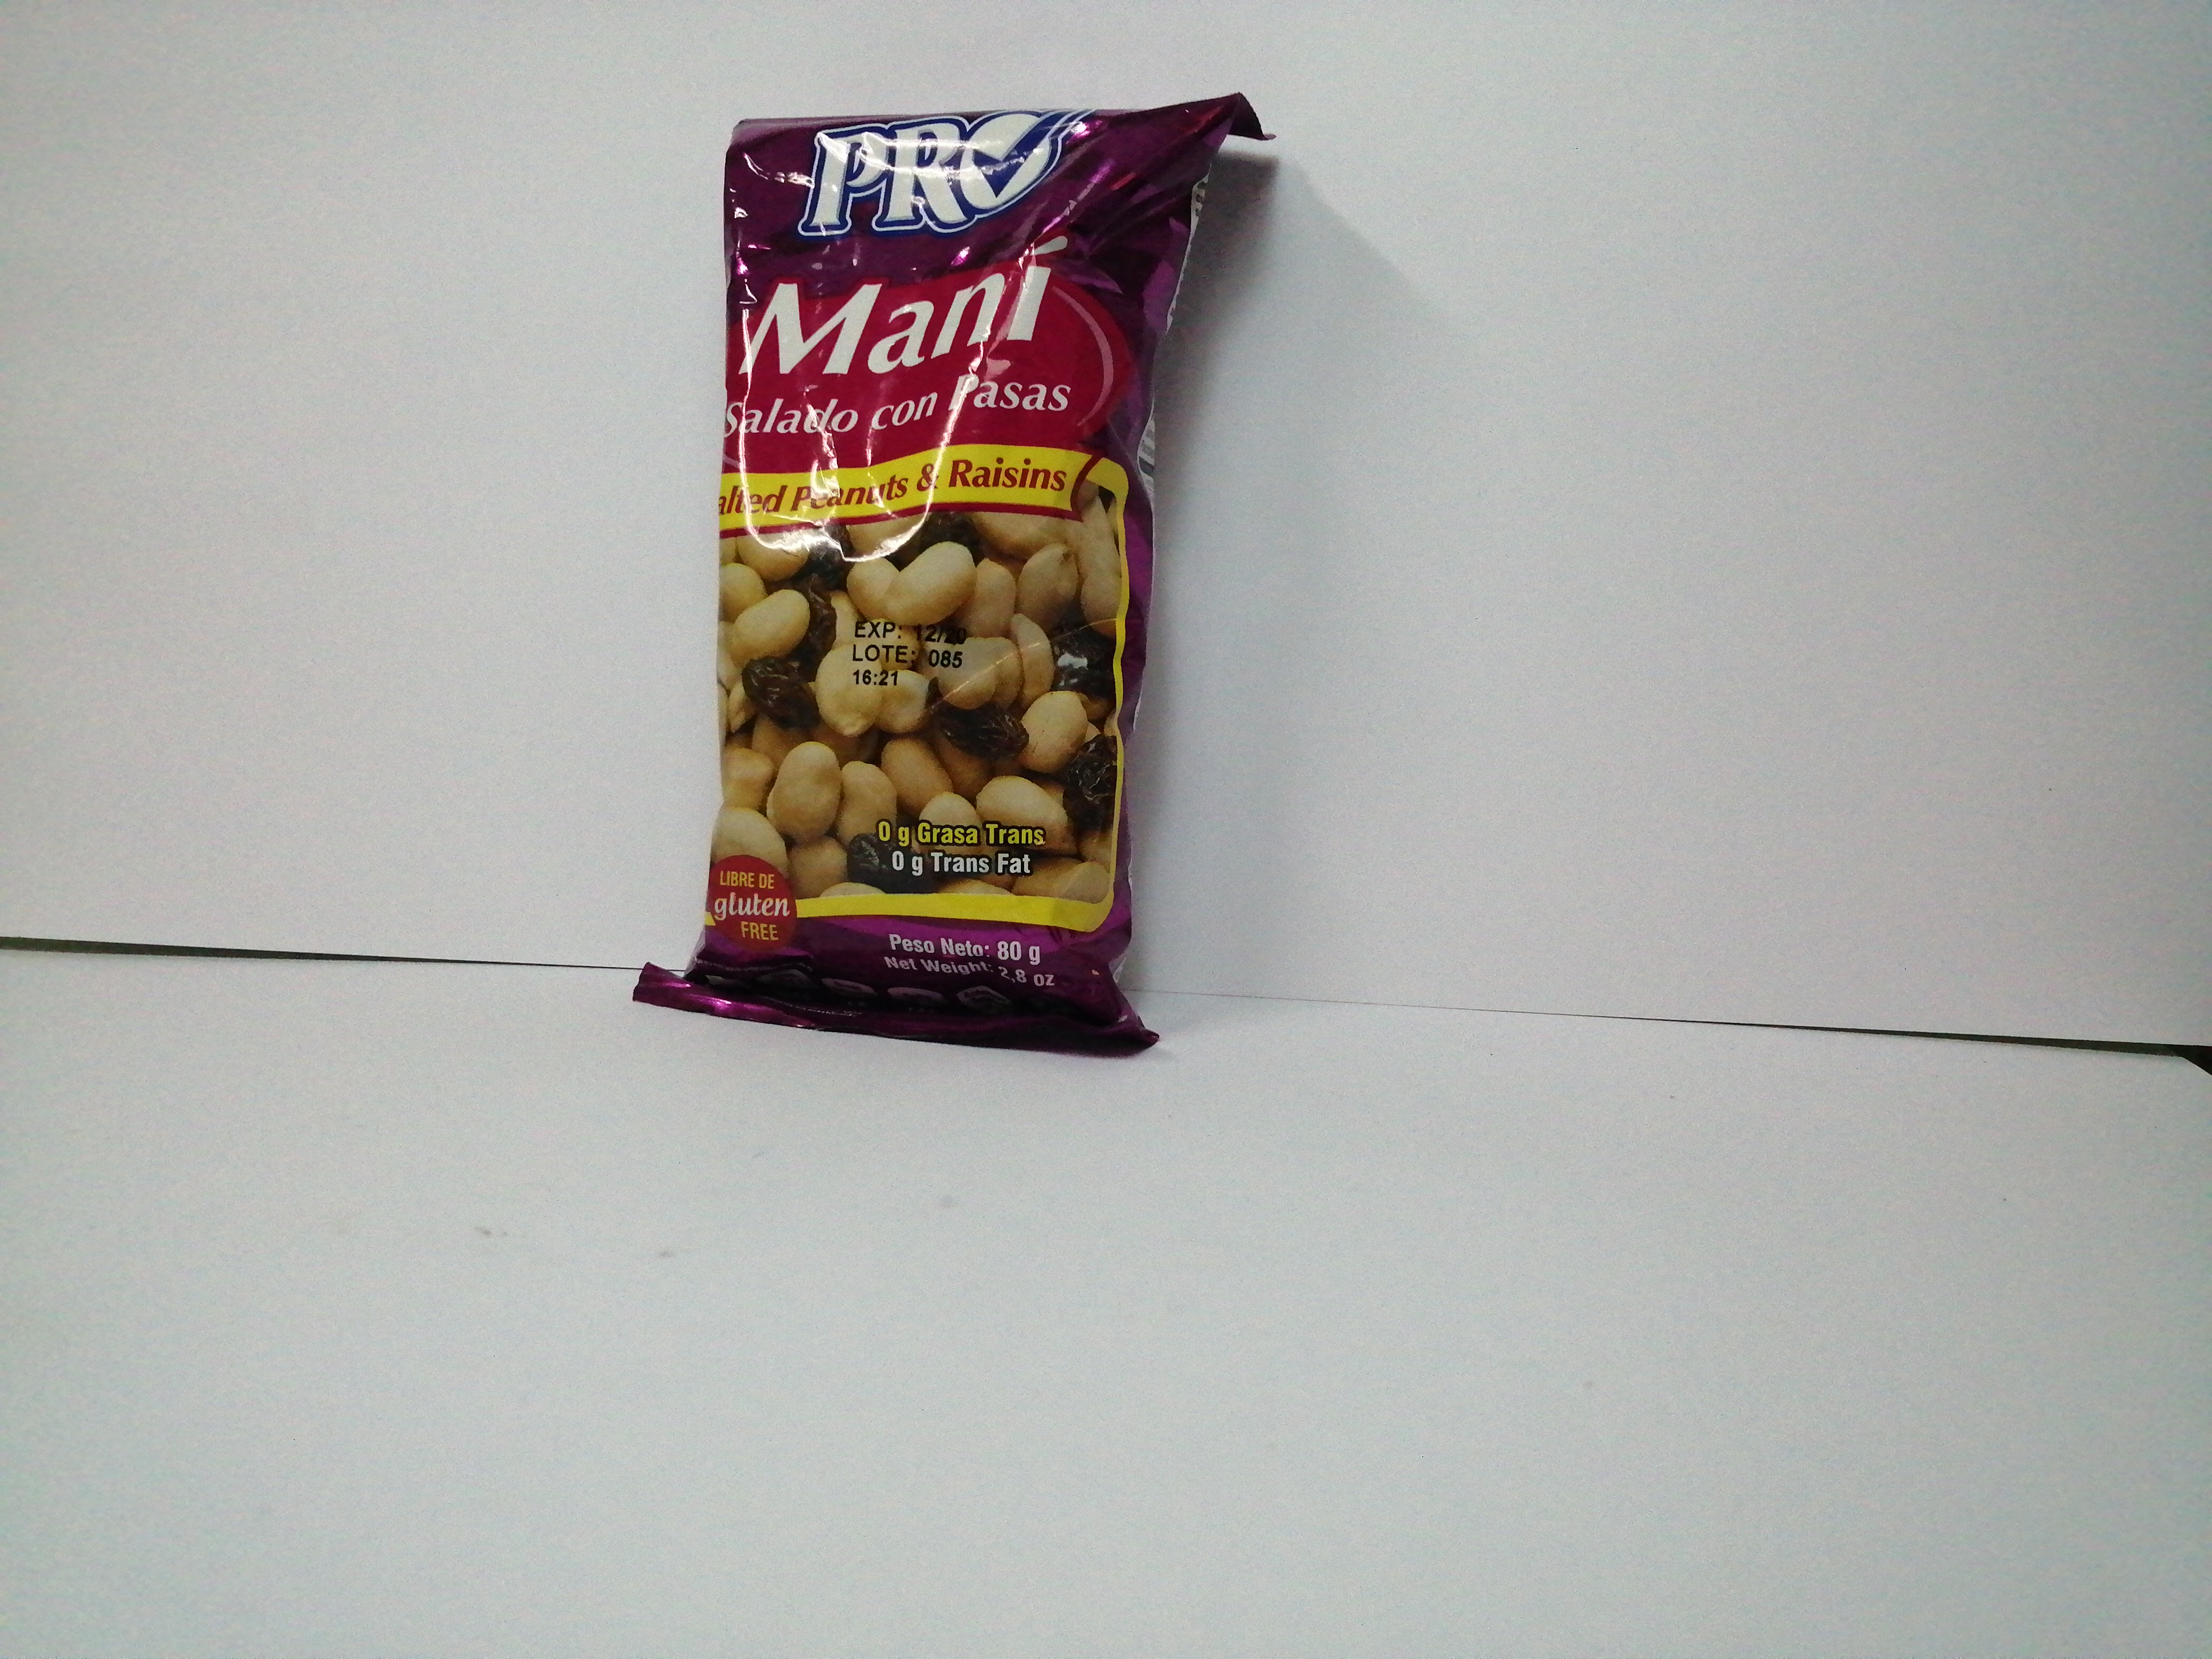mani: (632, 91, 1242, 1058)
